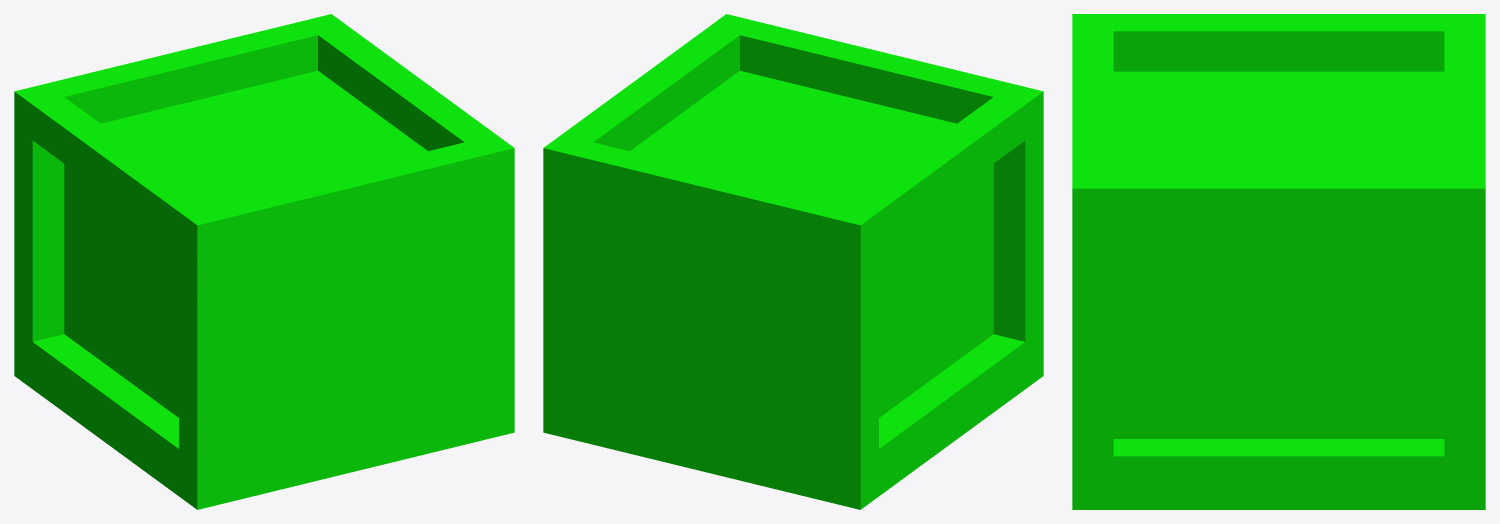
The model's file is Zona_Correcta.fbx.
3 views of the same model, side by side, from view 1: azimuth 30°, elevation 25°; view 2: azimuth 150°, elevation 25°; view 3: azimuth 270°, elevation 25° (orthographic). The views are drawn at different scales.
Visible parts, largest first — view 1: Zona_Correcta, Marcador_Correcto; view 2: Zona_Correcta, Marcador_Correcto; view 3: Zona_Correcta, Marcador_Correcto.
Part boxes in pixels (x1,y1,x2,y2): Zona_Correcta: (14,14,514,509); Marcador_Correcto: (64,71,427,417); Zona_Correcta: (543,14,1043,509); Marcador_Correcto: (630,71,993,417); Zona_Correcta: (1072,14,1485,509); Marcador_Correcto: (1113,71,1444,438).
Bounding box in the file's own units: 3.5 × 3 × 3.5.
